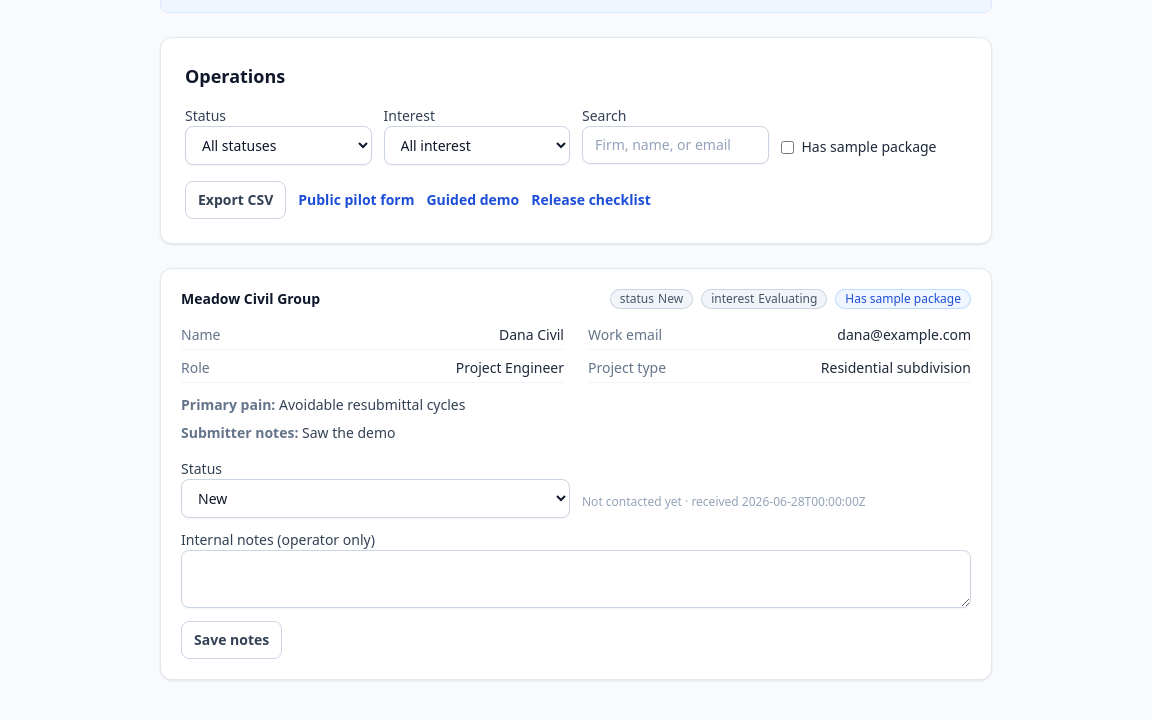
Pilot requests admin operations › updates a request status and reports success
The image size is (1152, 720).
(page scrolled)
Check: the list with test id "pilot-request-list" is shown, box [160,268,992,680]
Select "Qualified" in the dropdown named "status for meadow civil group" at {"x": 376, "y": 498}, box [181,479,570,518]
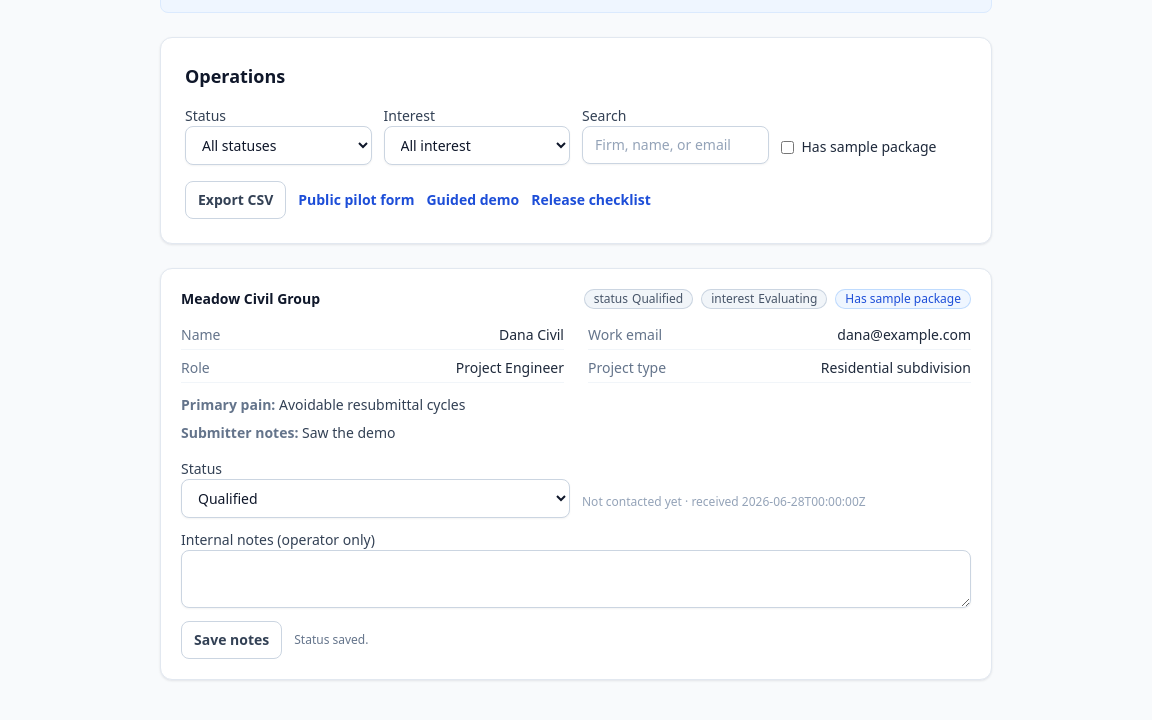
Check: the text "Status saved." is shown, box [294,632,368,648]
